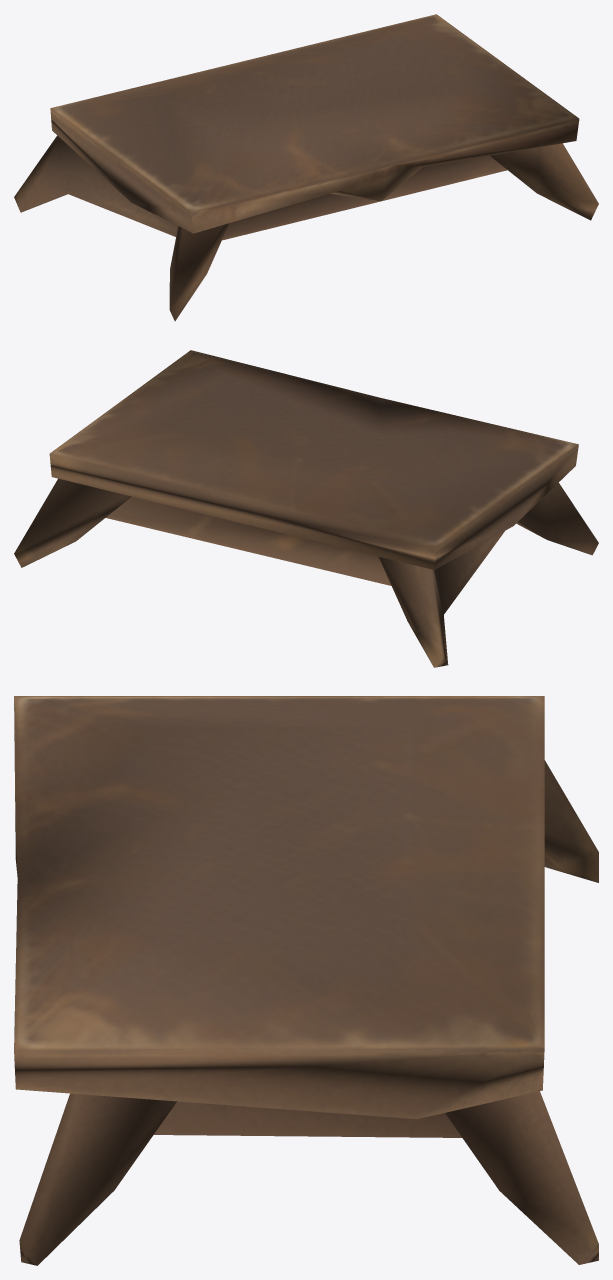
The model's file is Meshy_AI_Marbled_Stone_Display_0831080856_texture.fbx.
The picture shows the model from 3 angles, top to bottom: view 1: azimuth 30°, elevation 25°; view 2: azimuth 150°, elevation 25°; view 3: azimuth 270°, elevation 25°; orthographic projection. The views are drawn at different scales.
Visible parts, largest first — view 1: mesh_node; view 2: mesh_node; view 3: mesh_node.
Boxes of the visible parts, x1=… form: mesh_node: x1=14, y1=14, x2=598, y2=321; mesh_node: x1=14, y1=350, x2=598, y2=667; mesh_node: x1=14, y1=696, x2=598, y2=1265.
Bounding box in the file's own units: 100 × 28.52 × 63.09.
1 material, 1 textured.
